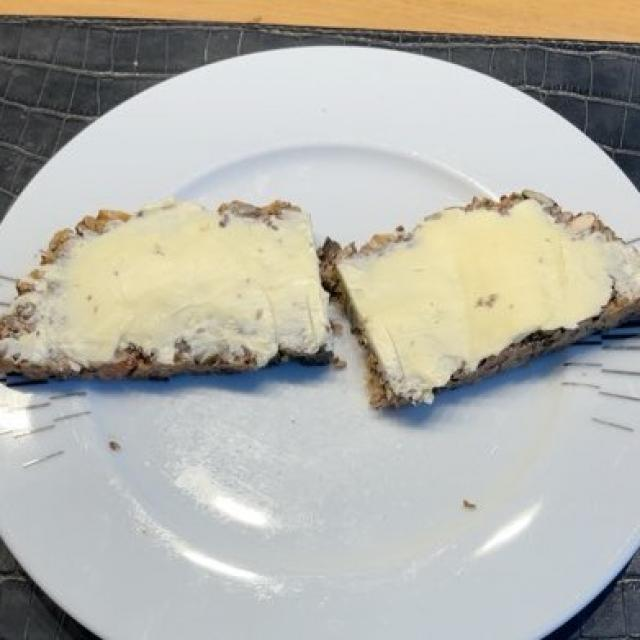butter: (38, 199, 612, 381)
